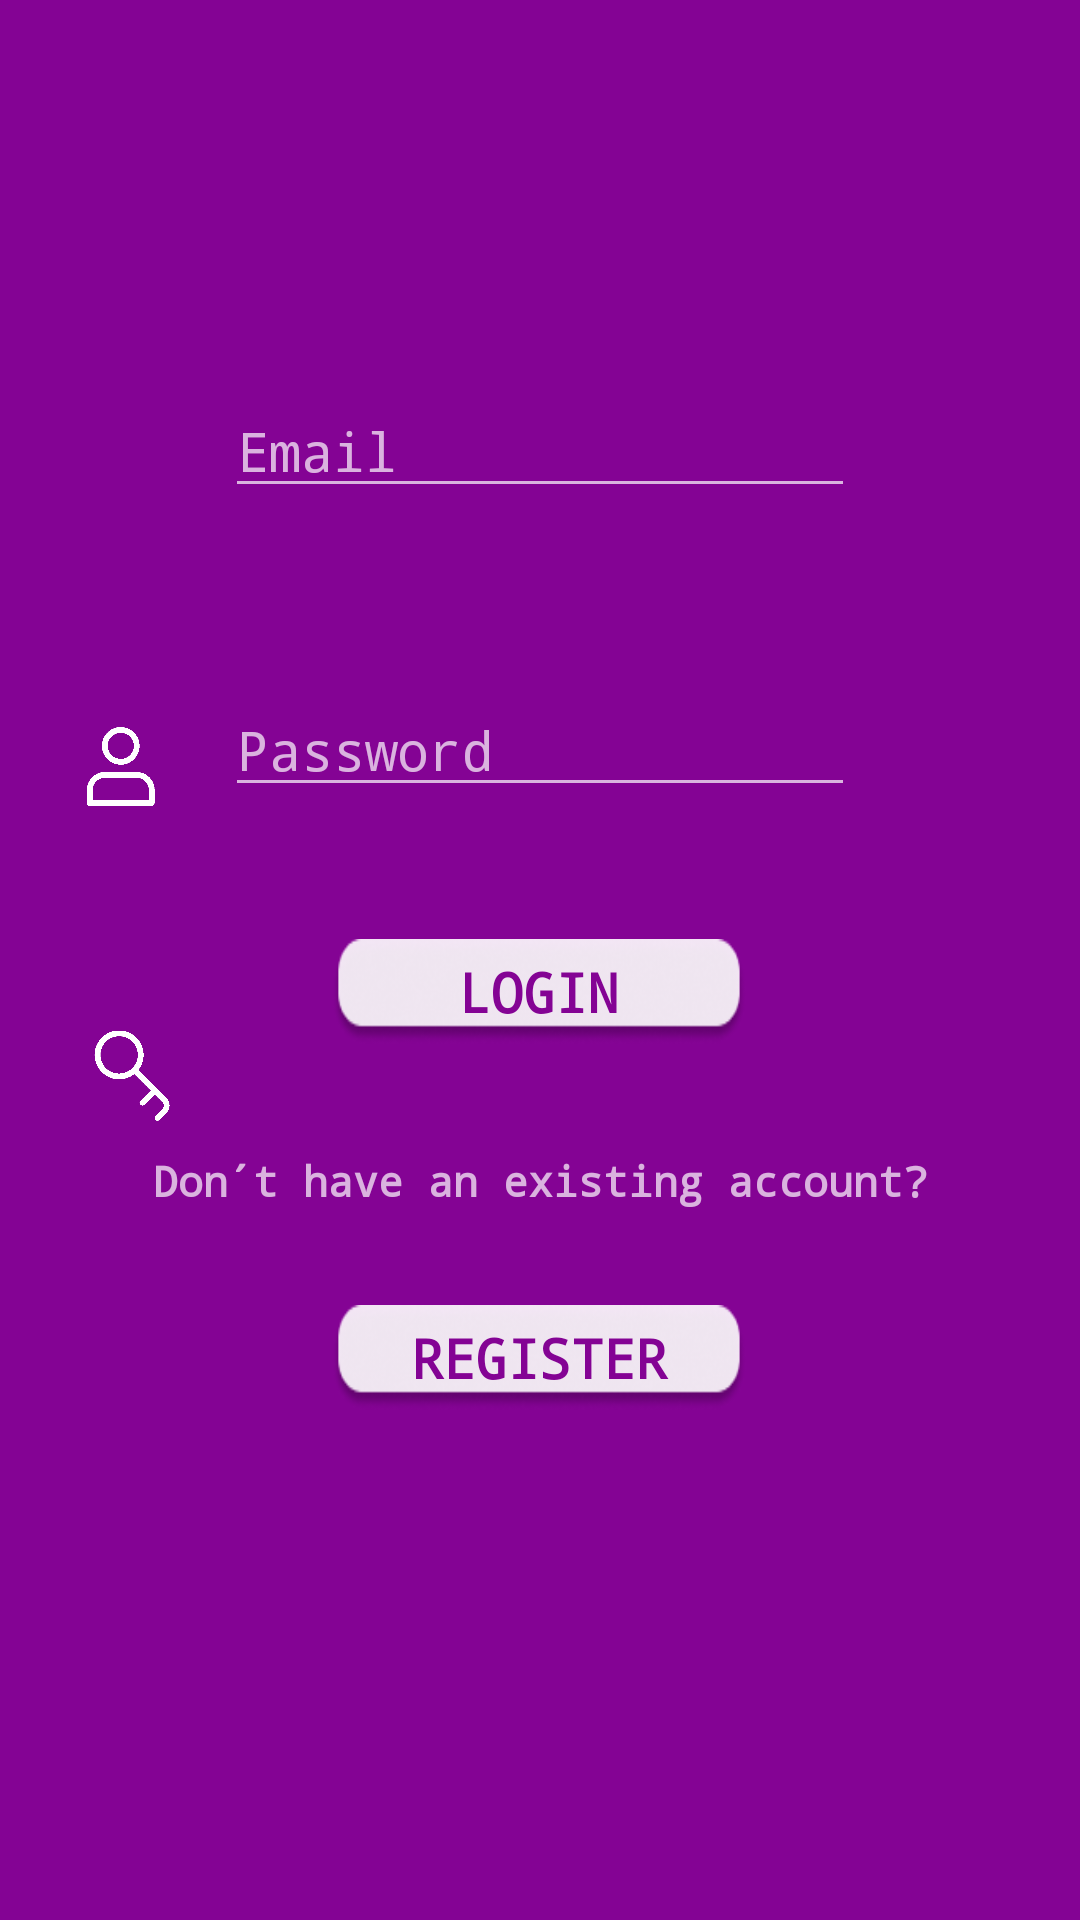

Icons on this 1080px×1920px Android screen, each with its box as (left=x1, top=y1, right=x2, bottom=y2):
key: (left=94, top=1031, right=170, bottom=1121)
user: (left=87, top=727, right=155, bottom=806)
